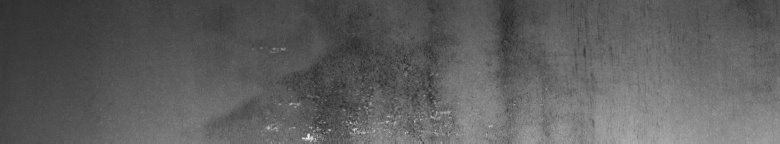hc: (261, 29, 510, 136)
